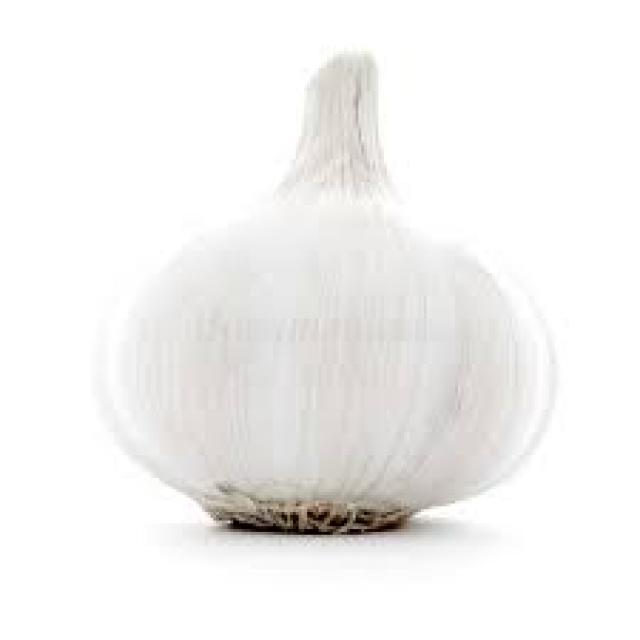organic waste: (108, 48, 552, 532)
